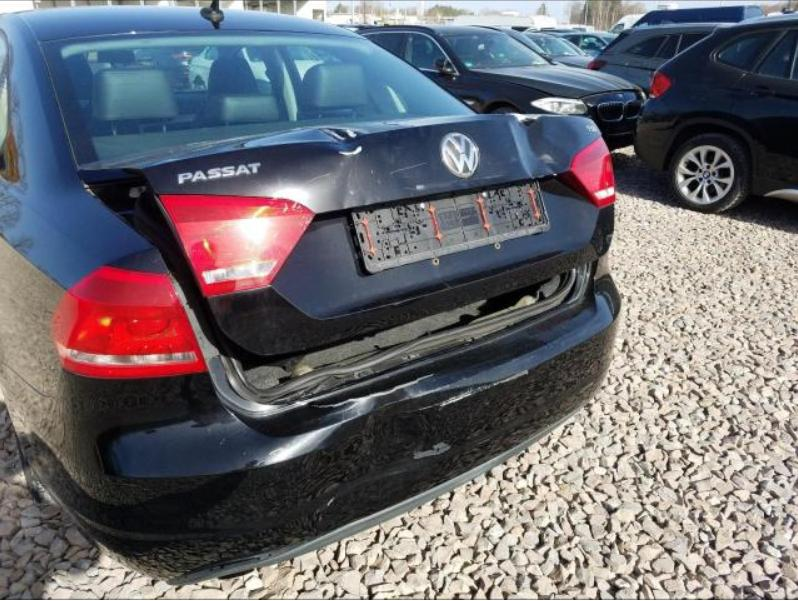Back-bumper: (3, 246, 620, 585)
Back-window: (39, 29, 475, 165), (0, 30, 11, 178)
License-plate: (351, 181, 550, 270)
Quarter-panel: (2, 176, 152, 396)
Roof: (0, 5, 364, 41)
Tail-light: (53, 266, 208, 379), (159, 195, 315, 296), (560, 136, 615, 207)
Trunk: (80, 113, 615, 355)
